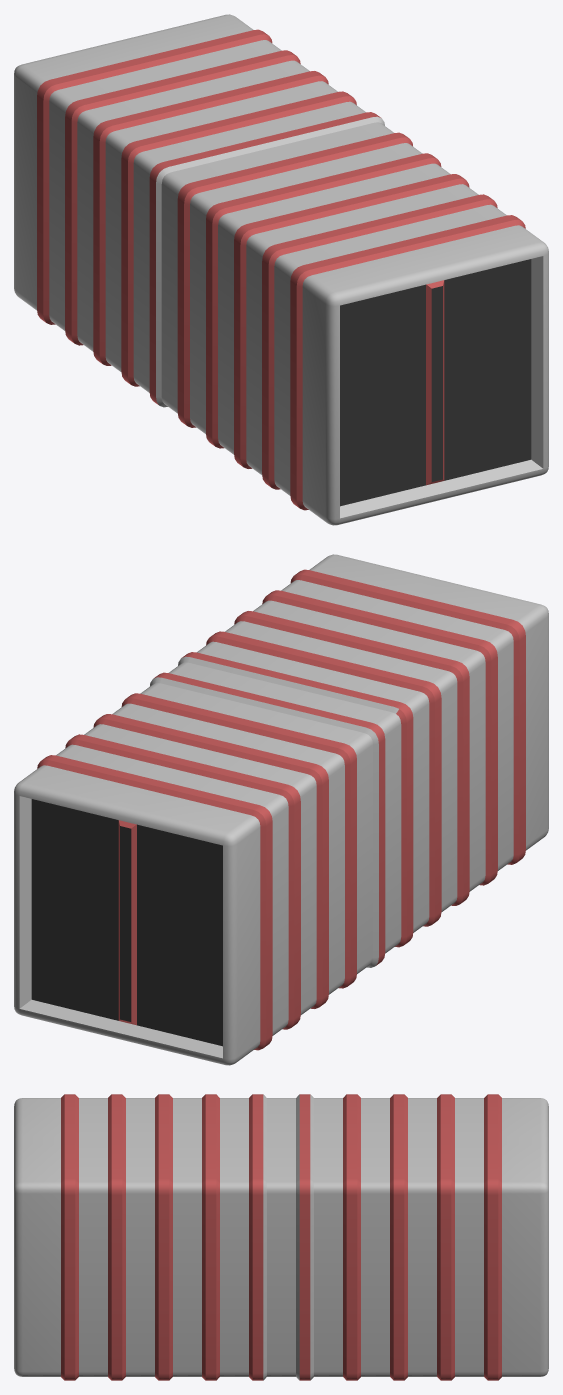
File: Container_1.fbx
3 views of the same model, one above another, from view 1: azimuth 30°, elevation 25°; view 2: azimuth 150°, elevation 25°; view 3: azimuth 270°, elevation 25° (orthographic). The views are drawn at different scales.
Parts seen in each view (by area): view 1: Container; view 2: Container; view 3: Container.
Boxes of the visible parts, box(x1,y1,x2,y2) form: Container: box(14, 14, 548, 525); Container: box(14, 554, 548, 1065); Container: box(14, 1094, 548, 1380).
Bounding box in the file's own units: 620 × 620 × 1500.
